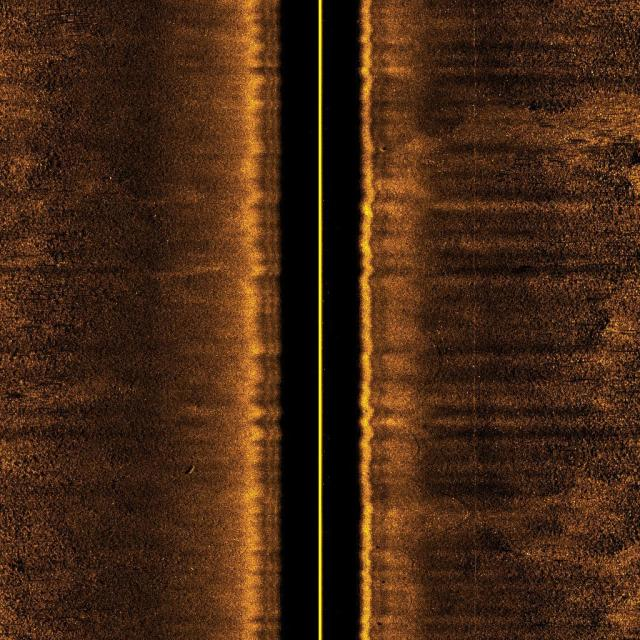mine: (184, 461, 200, 478)
